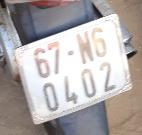0: (35, 76, 57, 111), (81, 68, 99, 98)
2: (100, 60, 122, 98)
4: (59, 72, 78, 106)
6: (31, 37, 50, 74), (96, 23, 116, 57)
7: (48, 35, 66, 70)
N: (78, 24, 100, 64)
